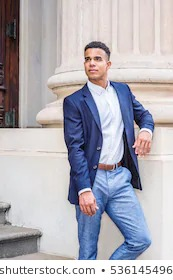F_M_suit jacket: (56, 75, 158, 207)
